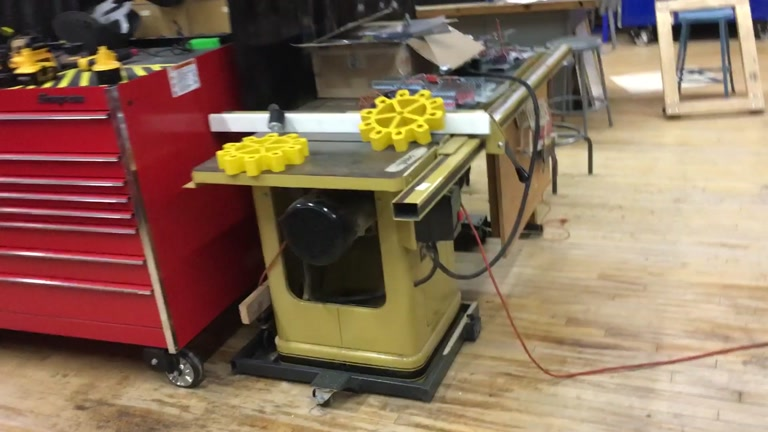gear: (359, 87, 444, 151), (216, 130, 309, 177)
